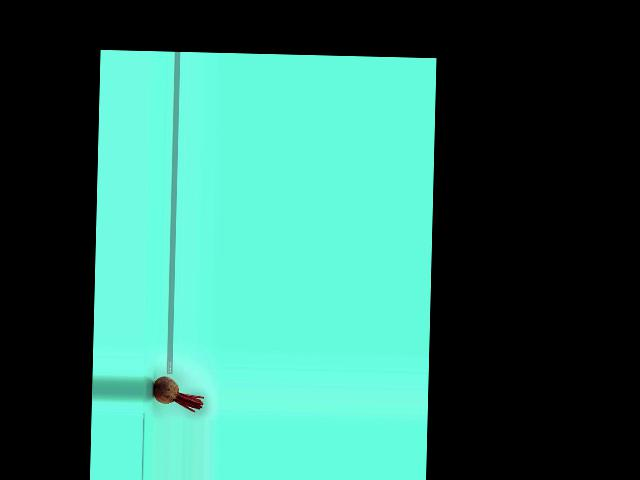beet: (152, 375, 204, 412)
